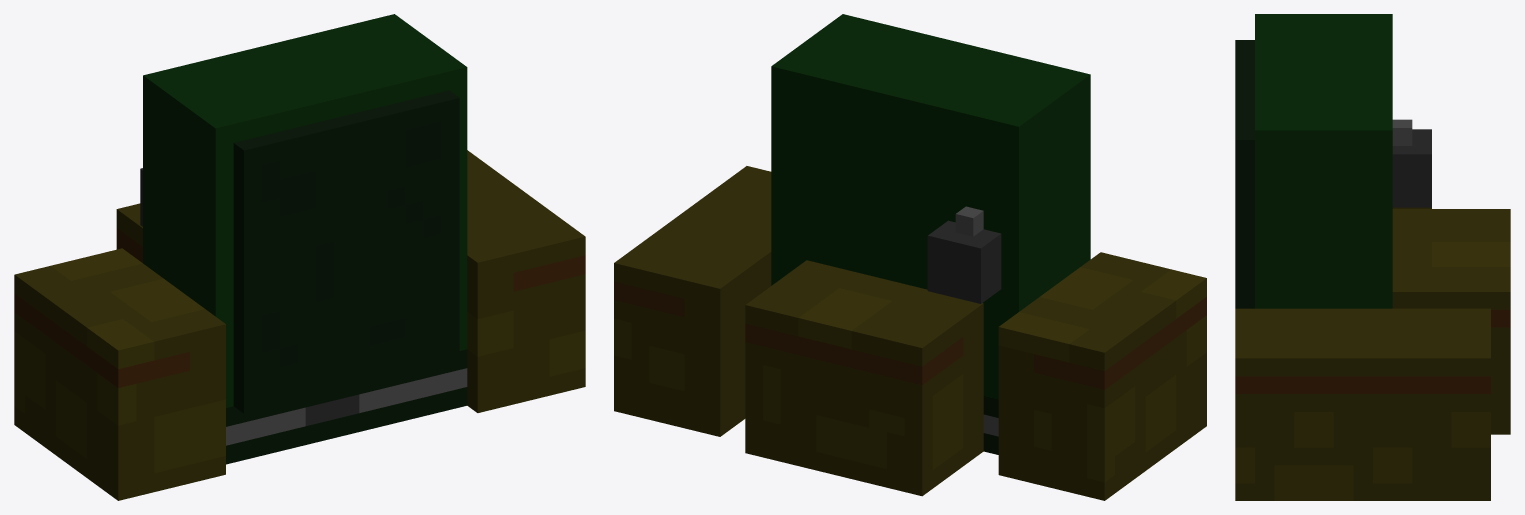
File: grenade launcher-5.obj
3 renders of one model, left to right at view 1: azimuth 30°, elevation 25°; view 2: azimuth 150°, elevation 25°; view 3: azimuth 270°, elevation 25°, orthographic. The views are drawn at different scales.
Size of the model in its own units: 2.6 by 1.8 by 1.4.
Materials: 1 (1 with a texture image).
